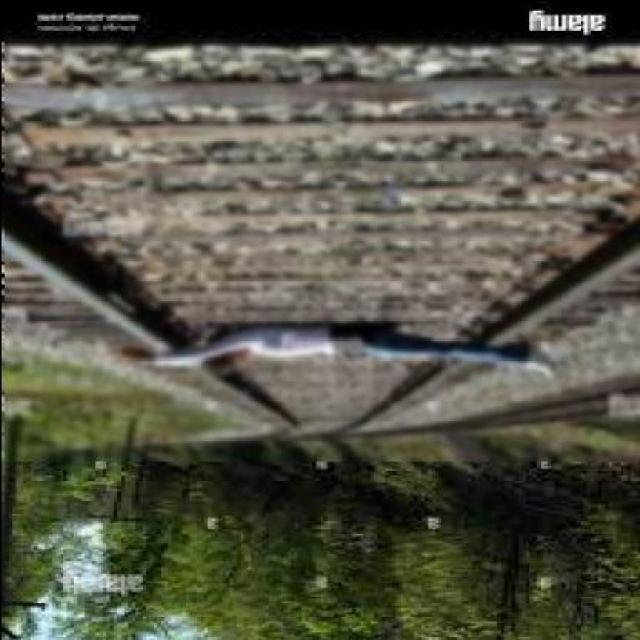rail: (4, 39, 640, 460)
